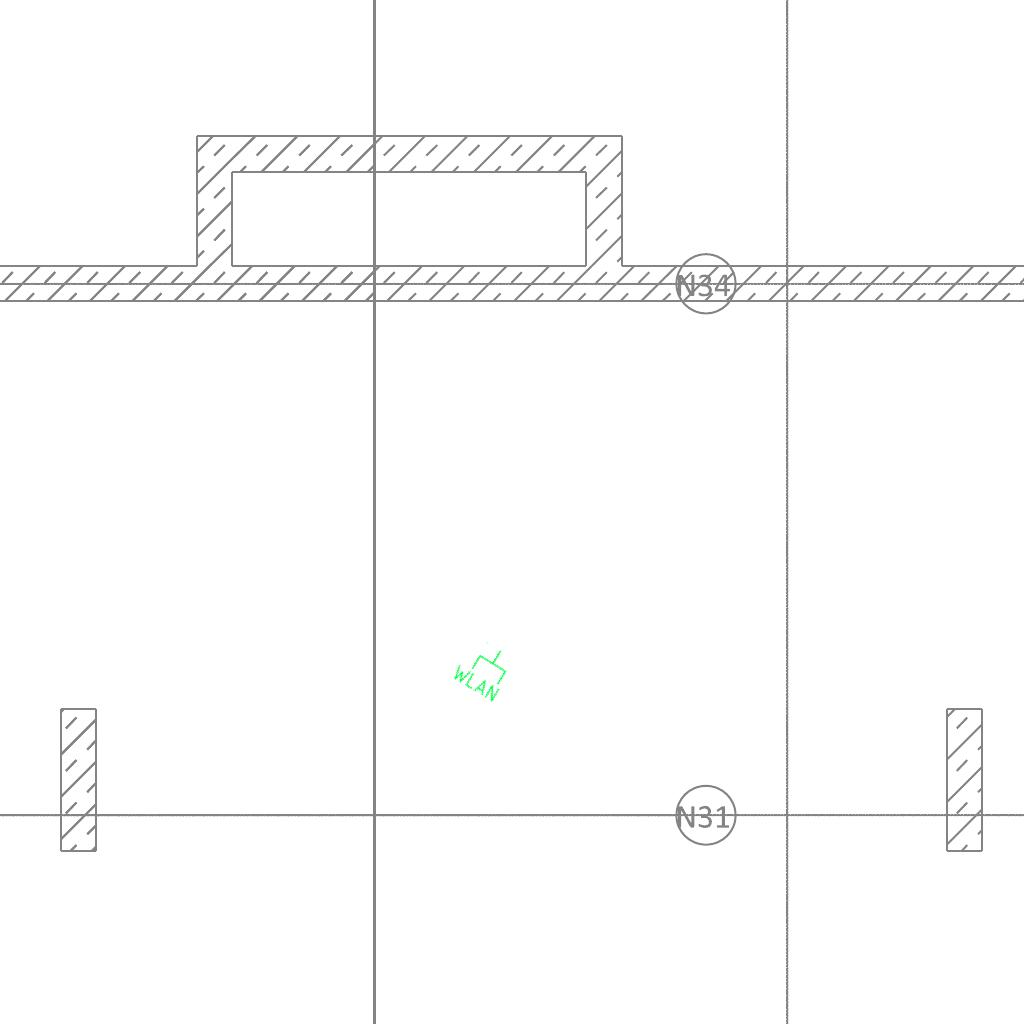WLAN: (448, 633, 520, 705)
